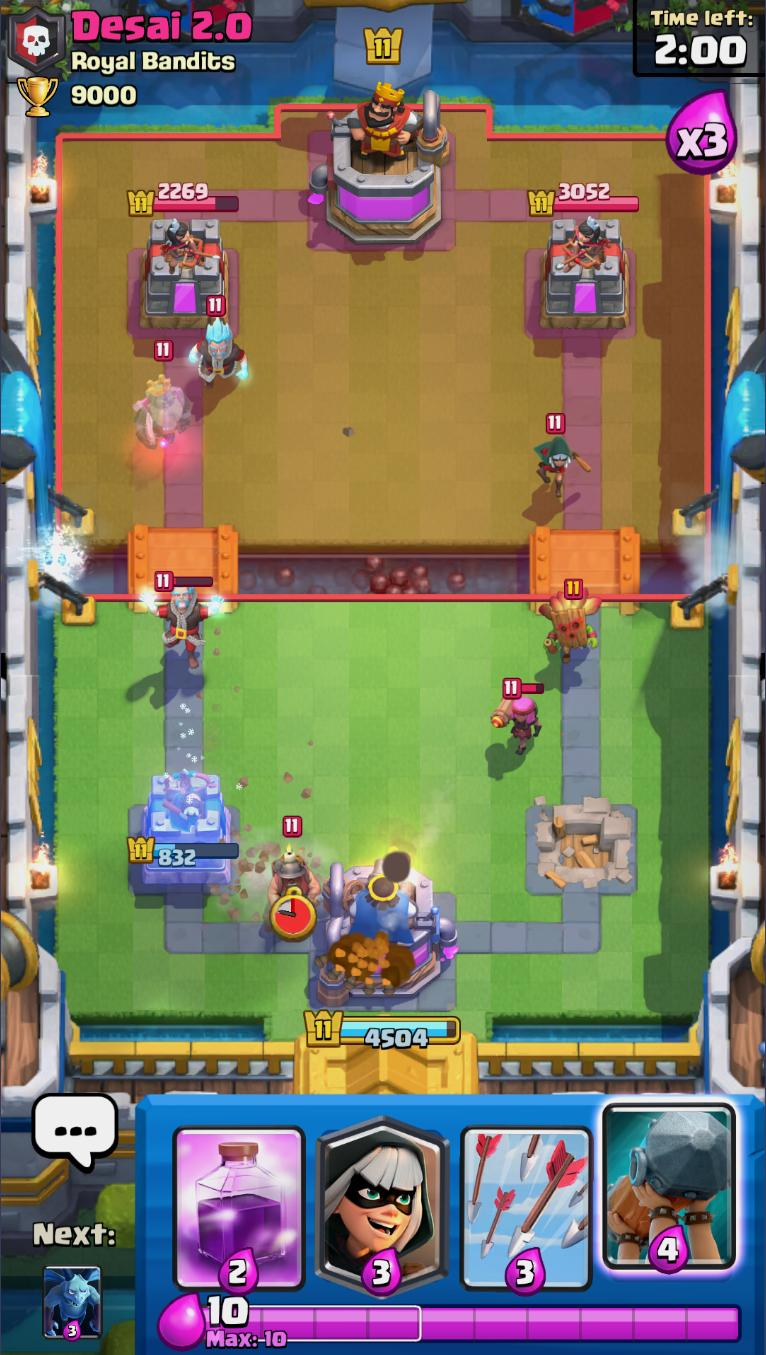ArrowDeck: (454, 1098, 599, 1296)
Bandit: (530, 411, 592, 501)
BanditDeck: (311, 1097, 456, 1297)
BattleRamDeck: (598, 1096, 741, 1297)
DartGoblin: (537, 578, 604, 669)
Elixir: (202, 1294, 744, 1352)
EnemyTower: (134, 214, 233, 335), (536, 216, 634, 332)
FireCracker: (491, 677, 546, 756)
IceWizard: (137, 570, 223, 671), (185, 292, 253, 395)
KingTower: (309, 79, 453, 246)
Miner: (267, 814, 321, 907)
MinionsNext: (41, 1261, 103, 1341)
MyKingHP: (299, 1007, 463, 1053)
MyKingTower: (317, 852, 458, 1011)
MyPrincessTower: (128, 770, 242, 887)
MyPrincessTowerBrocken: (523, 797, 642, 899)
MyPrincessTowerHP: (125, 835, 241, 869)
PrincessTower: (551, 214, 605, 270), (150, 216, 205, 269)
RageDeck: (165, 1095, 312, 1296)
RoyaleGhost: (132, 338, 193, 455)
TowerPrincessHP: (526, 182, 642, 218), (127, 183, 241, 219)
